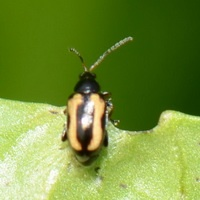insect: (62, 37, 132, 164)
